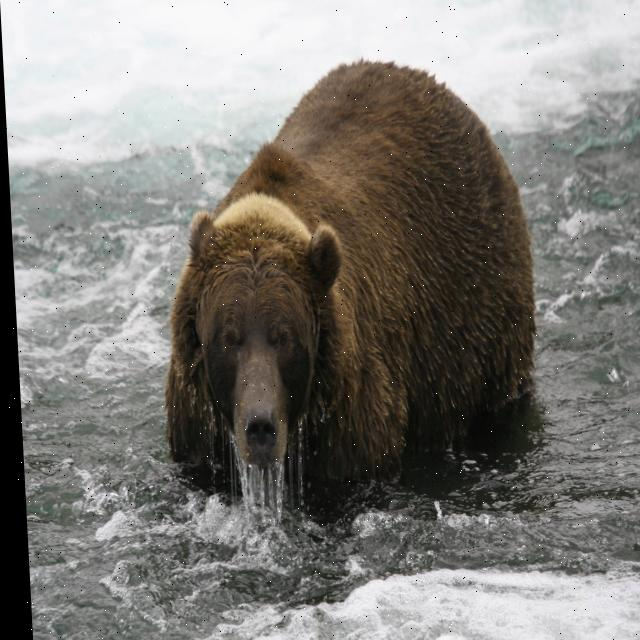bear face: (148, 60, 540, 499)
